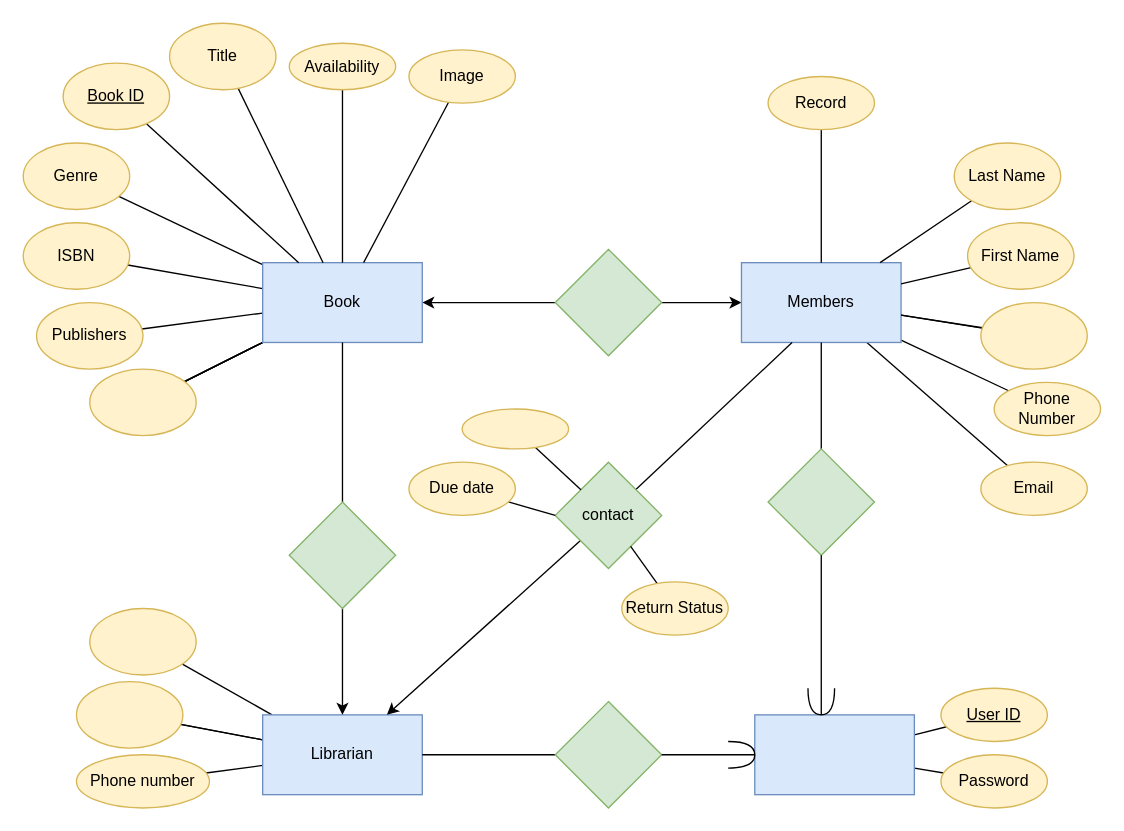
This 1124x831 diagram has some shape labels left out. The shapes that lost their labels are listed below. From the top down, each one's centre as x and y in pixels, then its label:
point (608, 302): borrow
point (1033, 335): MemberID
point (142, 402): Author
point (515, 428): Issue date
point (820, 501): sign in
point (342, 554): manage
point (142, 641): Name
point (129, 714): LibrarianID
point (608, 754): log in
point (833, 754): system
